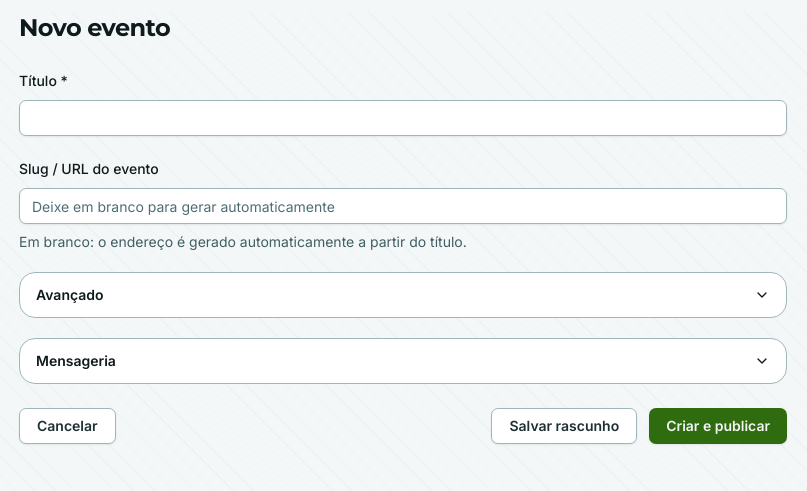
Novo evento — slug › mostra o 409 no campo sem perder o formulário
This screenshot has width=807, height=491.
Type "Meu Evento" into the field labelled "Título *" at (403, 118), box [19,100,787,136]
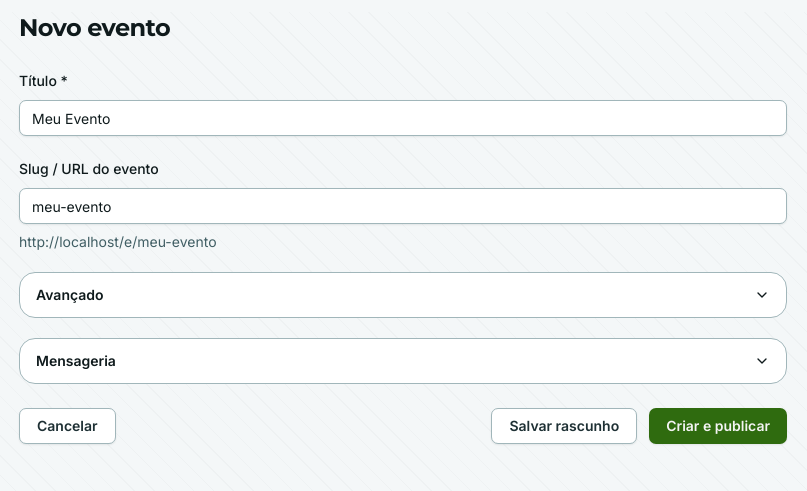
Click the button "Salvar rascunho" at (564, 426), box [492,408,637,444]
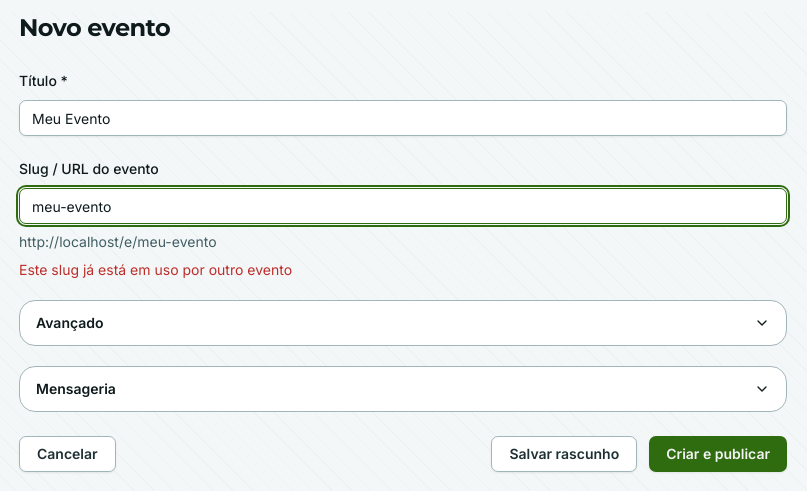
Now the field labelled "Slug / URL do evento" holds "meu-evento", box [19,188,787,224]
Now the text "Este slug já está em uso por outro evento" is shown, box [19,261,292,278]
